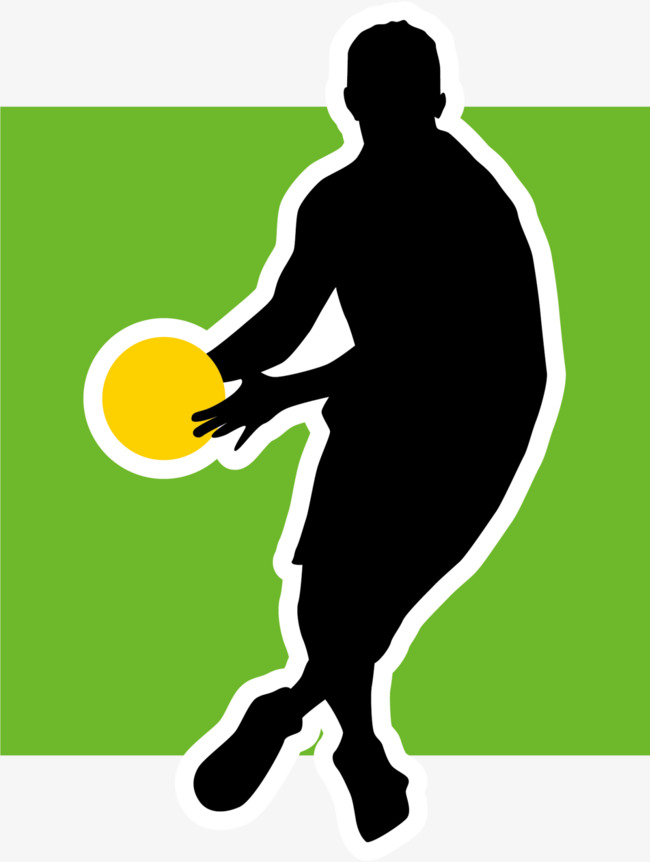ball: (101, 338, 227, 461)
